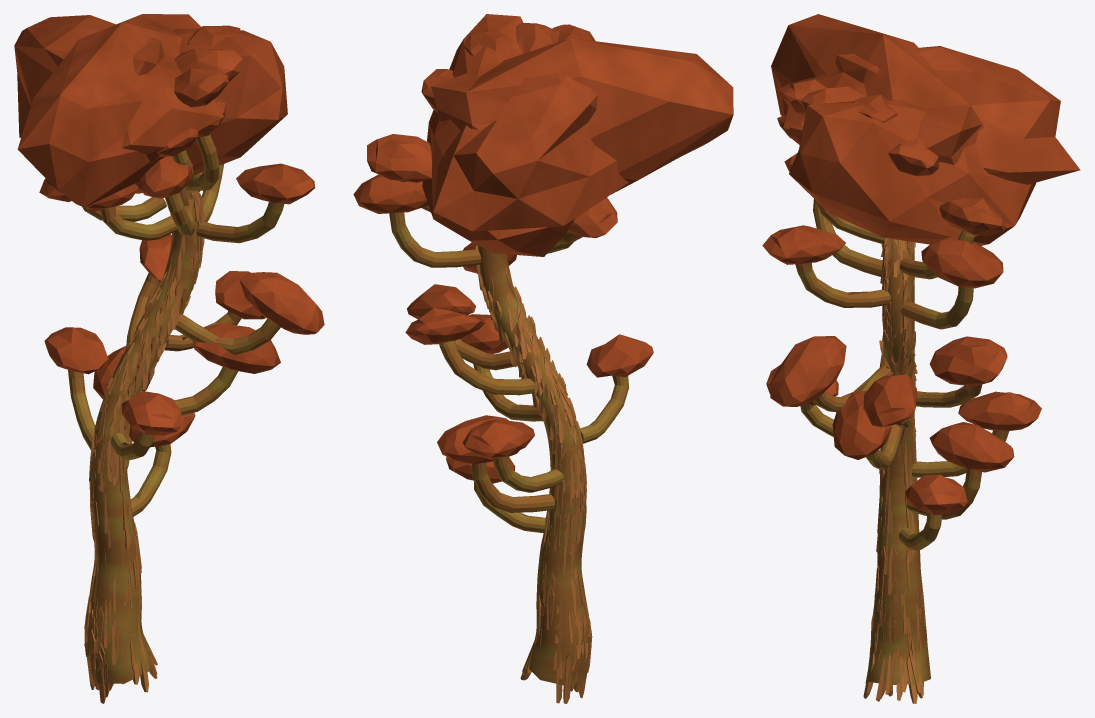
File: tree_text.fbx
3 views of the same model, side by side, from view 1: azimuth 30°, elevation 25°; view 2: azimuth 150°, elevation 25°; view 3: azimuth 270°, elevation 25° (orthographic). The views are drawn at different scales.
Visible parts, largest first — view 1: TreeGreen.002; view 2: TreeGreen.002; view 3: TreeGreen.002.
Boxes of the visible parts, left/top/right/bottom form: TreeGreen.002: left=14, top=14, right=324, bottom=703; TreeGreen.002: left=353, top=14, right=733, bottom=703; TreeGreen.002: left=762, top=14, right=1080, bottom=703.
Size of the model in its own units: 1071 by 2242 by 966.
3 materials, 2 textured.
